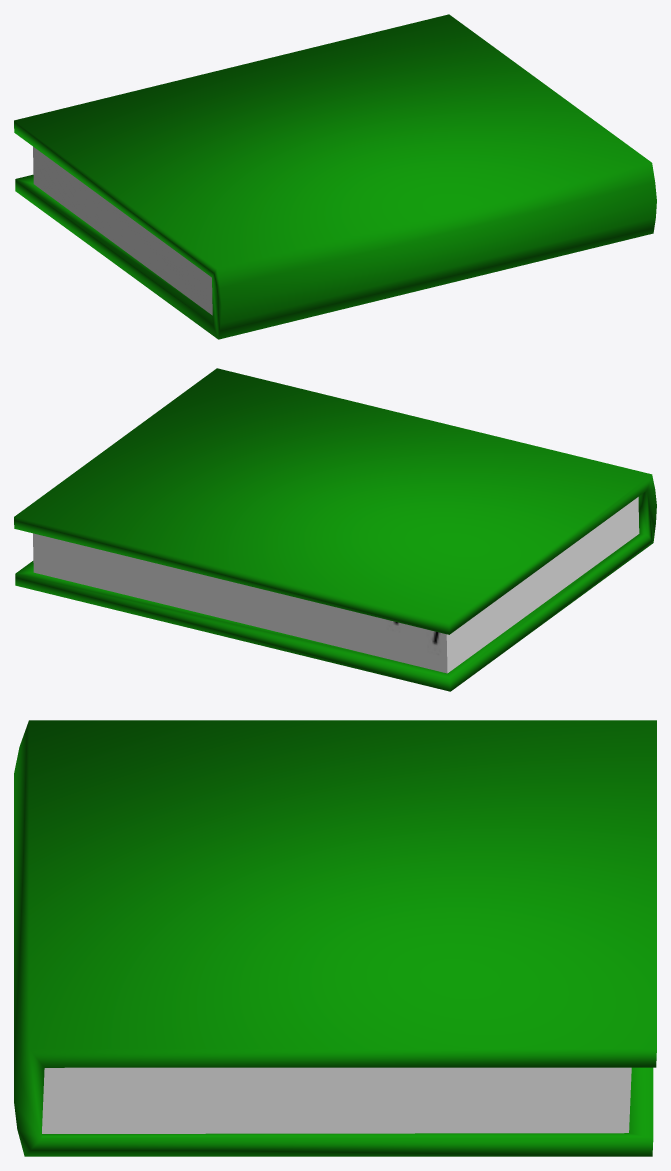
Rendered from Livro 03.fbx.
3 renders of one model, top to bottom at view 1: azimuth 30°, elevation 25°; view 2: azimuth 150°, elevation 25°; view 3: azimuth 270°, elevation 25°, orthographic. The views are drawn at different scales.
Visible parts, largest first — view 1: Livro; view 2: Livro; view 3: Livro.
Boxes of the visible parts, x1,y1,x2,y2 form: Livro: (14, 14, 656, 339); Livro: (14, 368, 656, 691); Livro: (14, 720, 656, 1156).
Size of the model in its own units: 32.97 by 5.06 by 27.27.
Materials: 2 (1 with a texture image).
